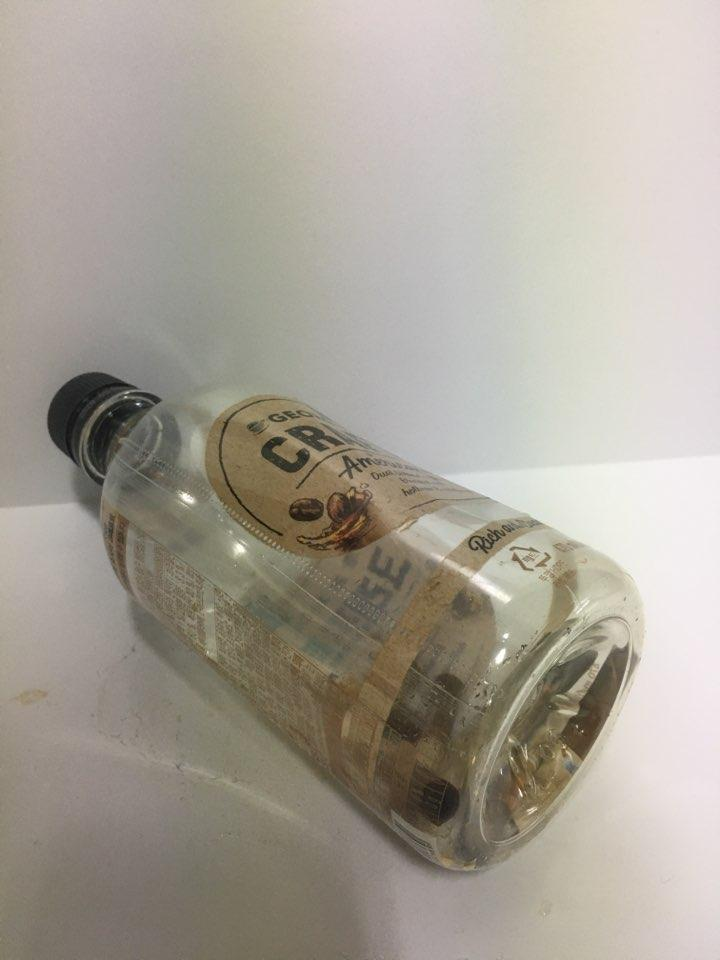bottle: (19, 342, 669, 893)
